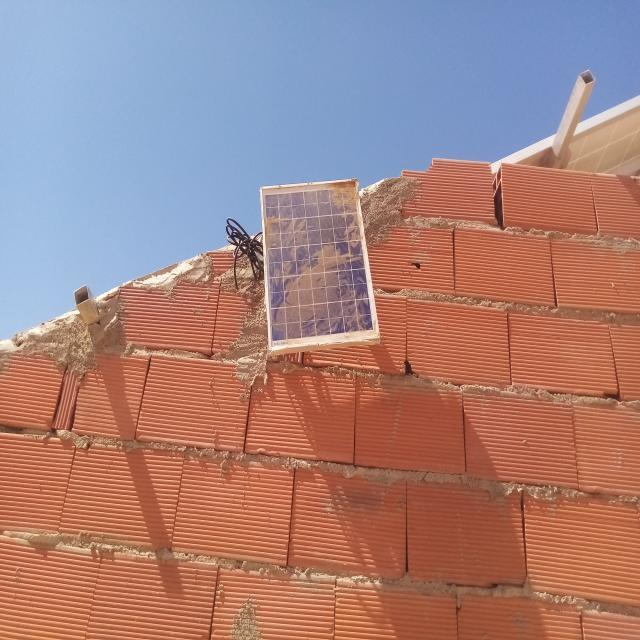faulty: (261, 180, 380, 349)
